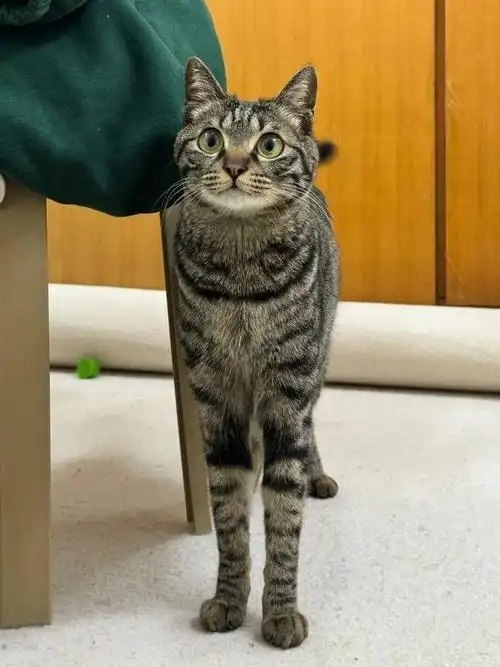狸花猫: (162, 58, 324, 437)
